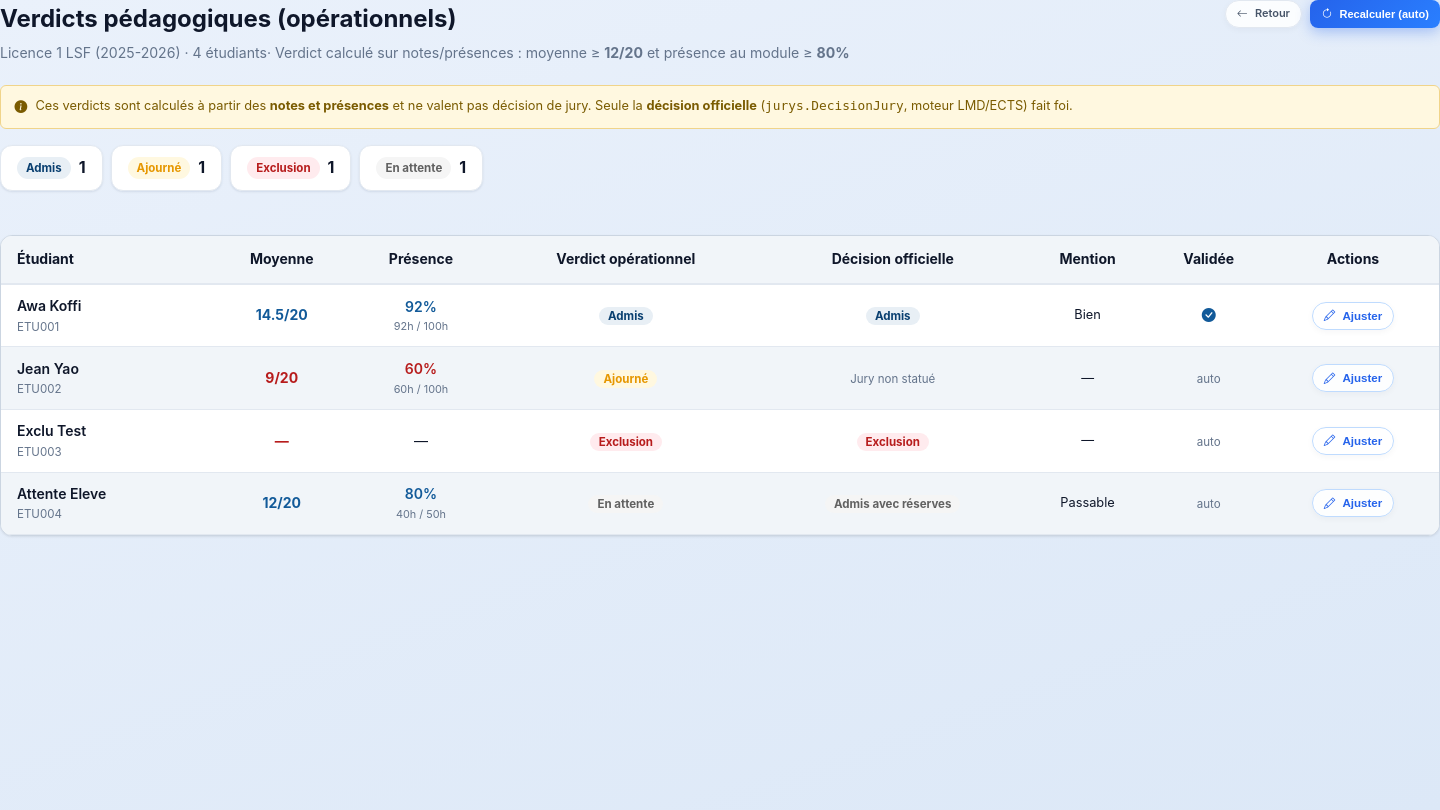
pages/DecisionsPedagogiques.jsx — tableau et décisions › filtre les lignes par décision via les cartes KPI, puis réaffiche tout
The image size is (1440, 810).
Expected: the text "Awa Koffi" is shown, x1=17 y1=297 x2=81 y2=314
Click the 1st text "Ajourné". click: (159,168)
box: x1=128 y1=157 x2=190 y2=179
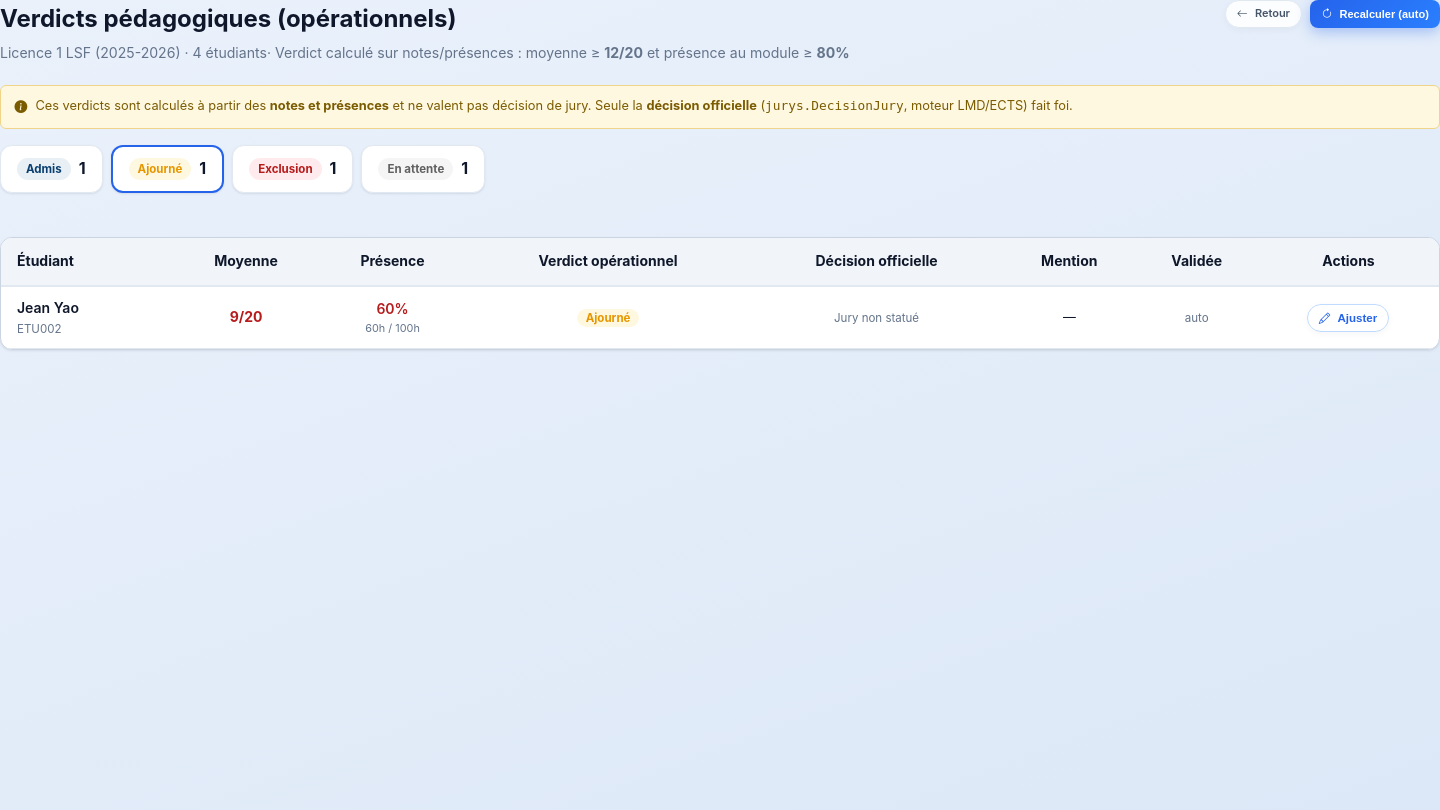
Expected: the text "Jean Yao" is shown, x1=17 y1=299 x2=79 y2=316
Expected: the text "Awa Koffi" is gone
Expected: the text "Exclu Test" is gone
Note: Second clic : le filtre est retiré.
Click the text "Ajourné" in the row of "Admis". click: (160,169)
box: x1=129 y1=158 x2=191 y2=180
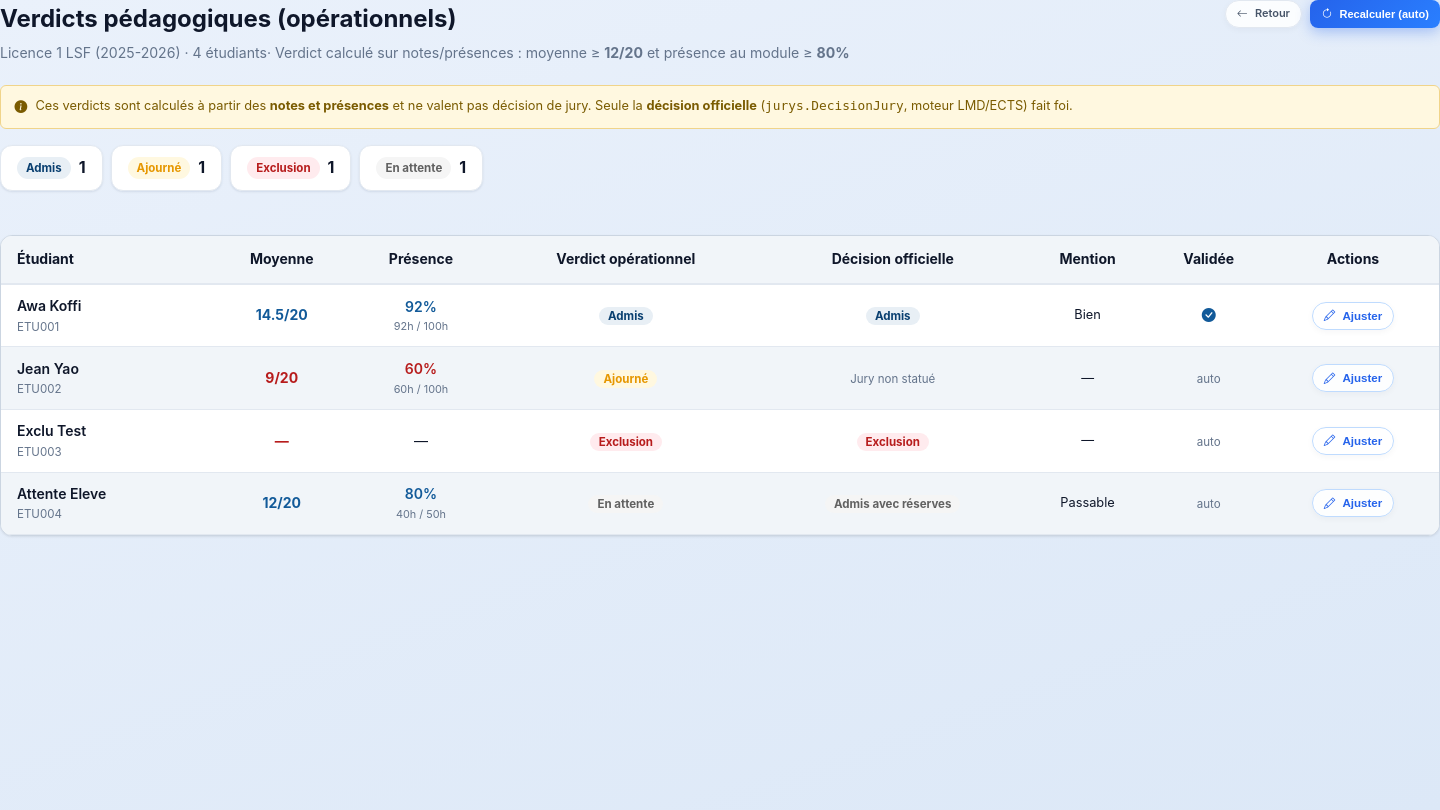
Expected: the text "Awa Koffi" is shown, x1=17 y1=297 x2=81 y2=314
Expected: the text "Exclu Test" is shown, x1=17 y1=422 x2=86 y2=439
